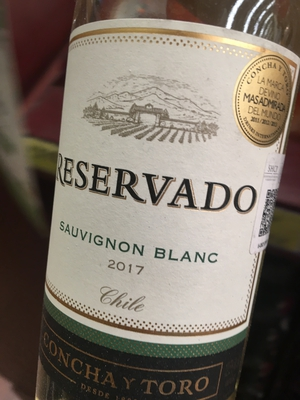reservado sauvignon blanc: (39, 4, 283, 399)
